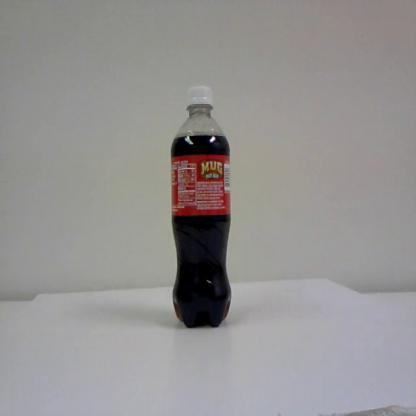bottle: (167, 83, 233, 330)
